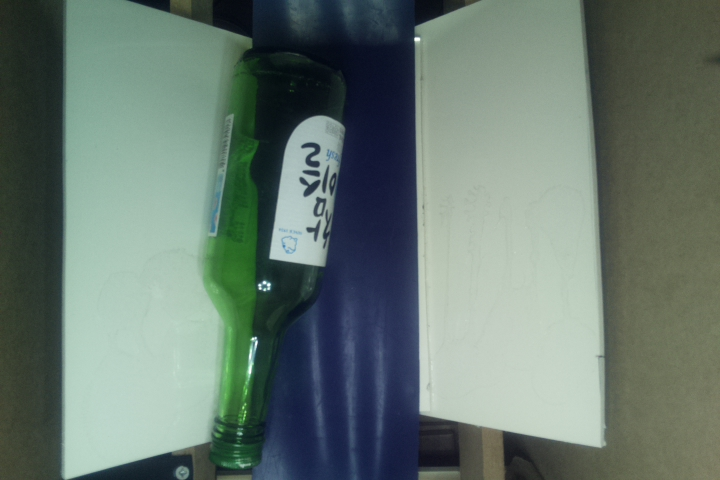soju: (198, 45, 352, 469)
